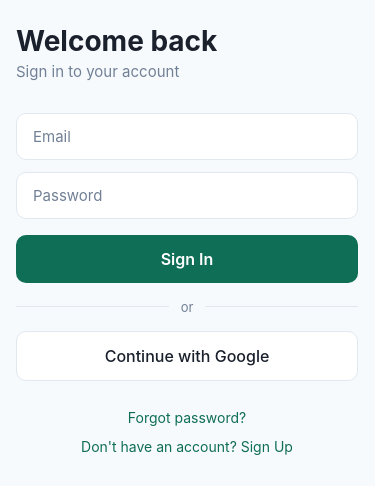
Test case: SignInScreen › shows validation error for short password
Type "user@example.com" into the field with placeholder "Email" at point(187, 136), box [16,112,358,160]
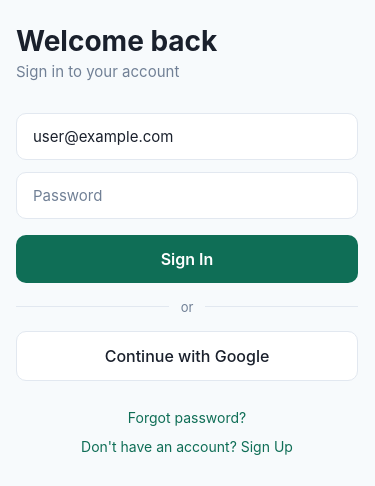
Type "abc" into the password field with placeholder "Password" at point(187, 195), box [16,172,358,218]
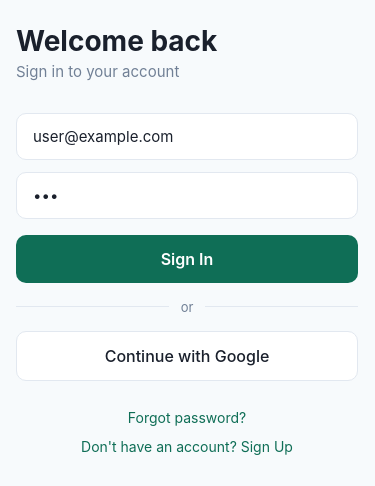
Click the text "Sign In" at point(187, 258), box [161,248,213,268]
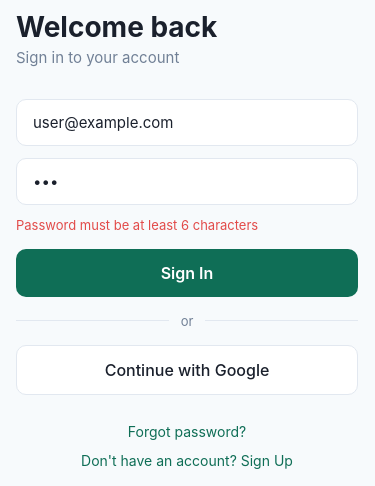
Now the text "Password must be at least 6 characters" is shown, box [16,216,258,232]
